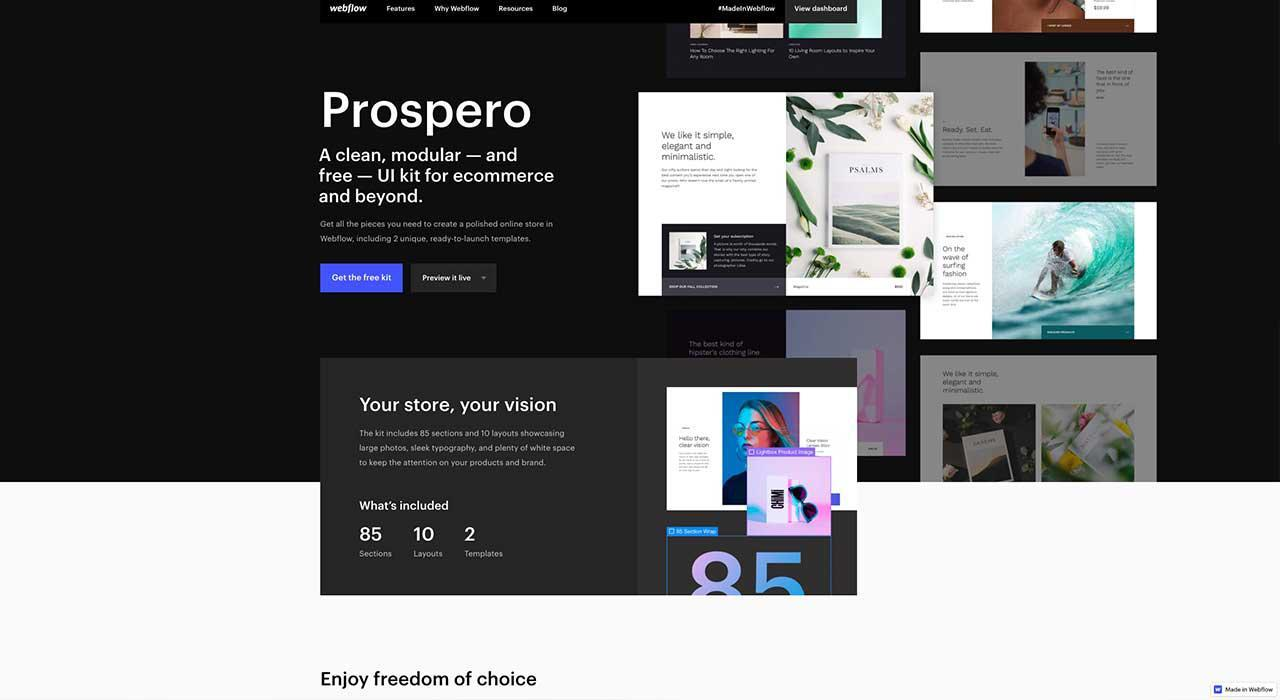button: (321, 264, 404, 293)
dropdown: (411, 265, 498, 293)
label: (435, 5, 481, 15), (498, 5, 536, 15), (385, 5, 418, 15), (551, 5, 571, 14)
